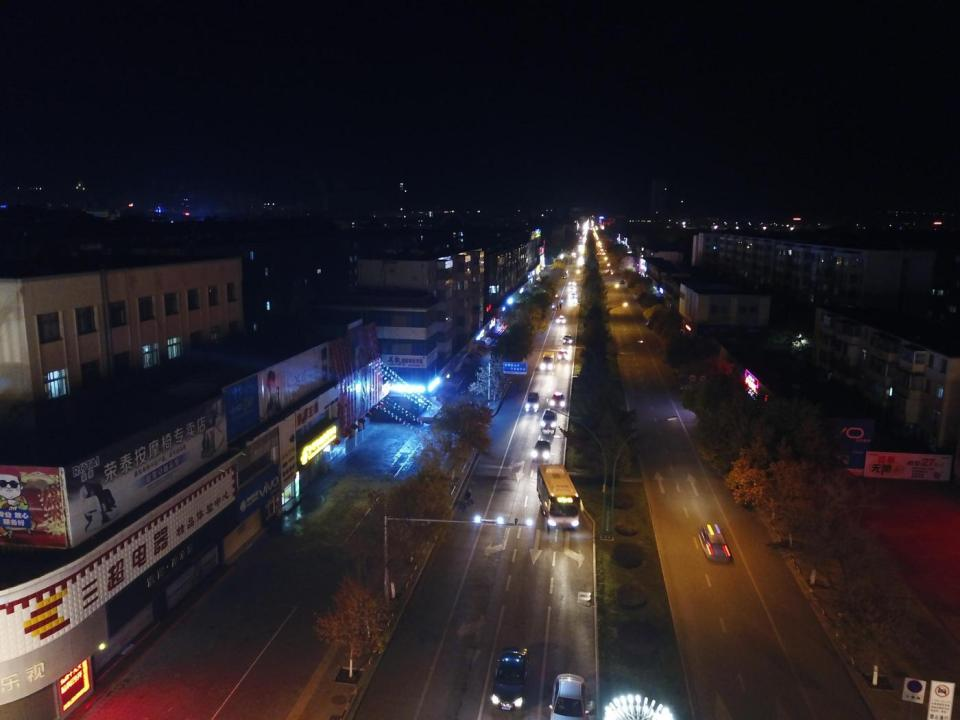bus: (536, 464, 578, 528), (542, 350, 554, 369)
car: (492, 646, 528, 710), (549, 672, 589, 720), (699, 524, 731, 561), (540, 409, 558, 429), (532, 441, 550, 459), (525, 391, 539, 411), (549, 392, 566, 408), (558, 348, 568, 360), (563, 335, 573, 344), (557, 315, 565, 323), (567, 280, 576, 285), (568, 287, 576, 292), (570, 293, 576, 298), (571, 250, 576, 256), (607, 268, 612, 274), (619, 280, 625, 284), (595, 242, 599, 246), (598, 252, 602, 255), (562, 275, 565, 278), (604, 250, 607, 252)
